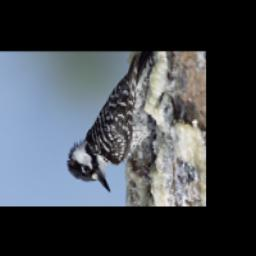Woodpecker: (66, 55, 180, 197)
